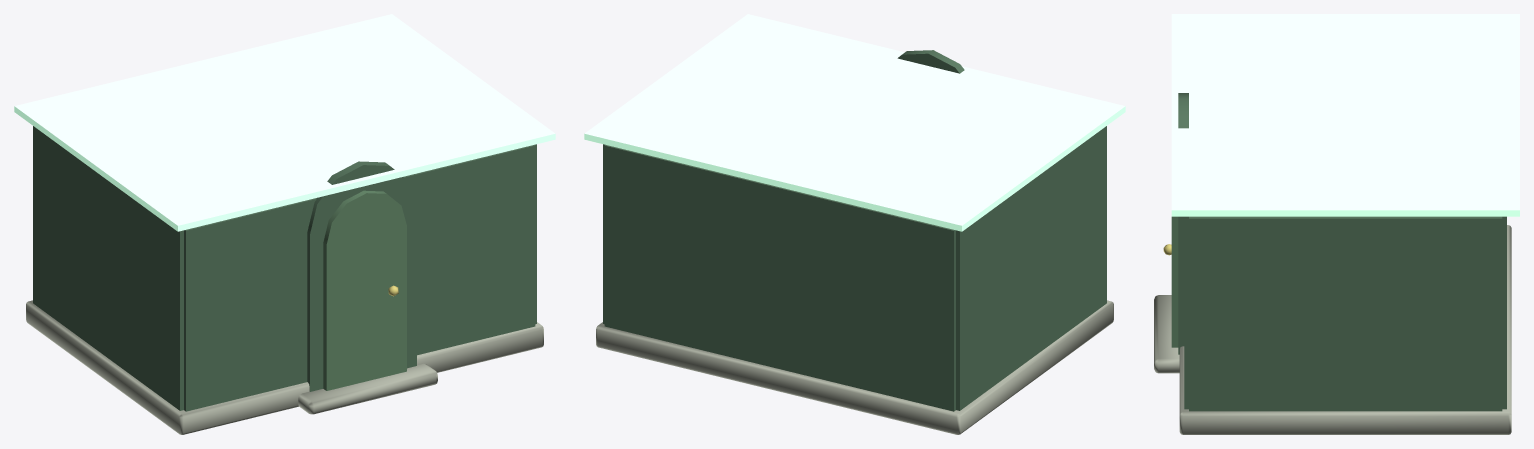
Rendered from v_greenhouse.glb.
The picture shows the model from 3 angles, left to right: view 1: azimuth 30°, elevation 25°; view 2: azimuth 150°, elevation 25°; view 3: azimuth 270°, elevation 25°; orthographic projection. The views are drawn at different scales.
Parts seen in each view (by area): view 1: Greenhouse; view 2: Greenhouse; view 3: Greenhouse.
Part boxes in pixels (<box>): Greenhouse: <box>14,14,555,434</box>; Greenhouse: <box>584,14,1125,434</box>; Greenhouse: <box>1154,14,1519,434</box>.
Size of the model in its own units: 4 by 2.31 by 3.15.
